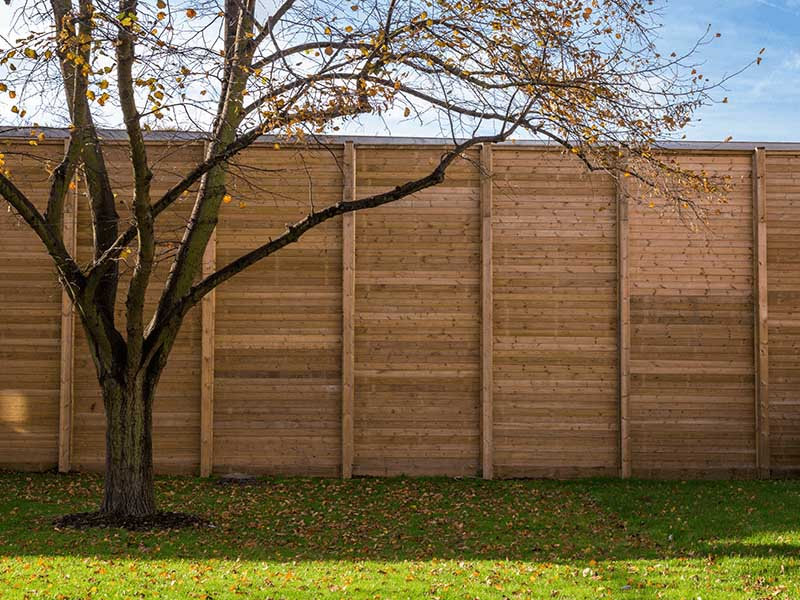Arbol: (1, 1, 492, 534)
Valla: (1, 127, 799, 478)
